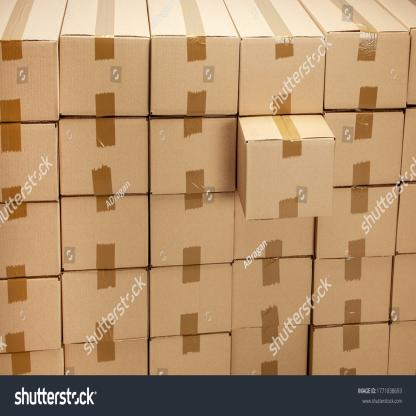box: (246, 136, 336, 218), (59, 33, 150, 114), (325, 31, 412, 110), (150, 36, 238, 114), (59, 118, 149, 194), (239, 38, 326, 115), (62, 269, 149, 346), (150, 118, 237, 194), (61, 195, 148, 270), (150, 192, 234, 266), (149, 264, 232, 338), (314, 186, 399, 258), (323, 110, 405, 184), (233, 258, 313, 330), (313, 258, 394, 326), (0, 38, 58, 121), (0, 275, 61, 352), (0, 201, 62, 276), (0, 201, 60, 275), (0, 123, 57, 200), (310, 324, 390, 376), (231, 326, 309, 378)
